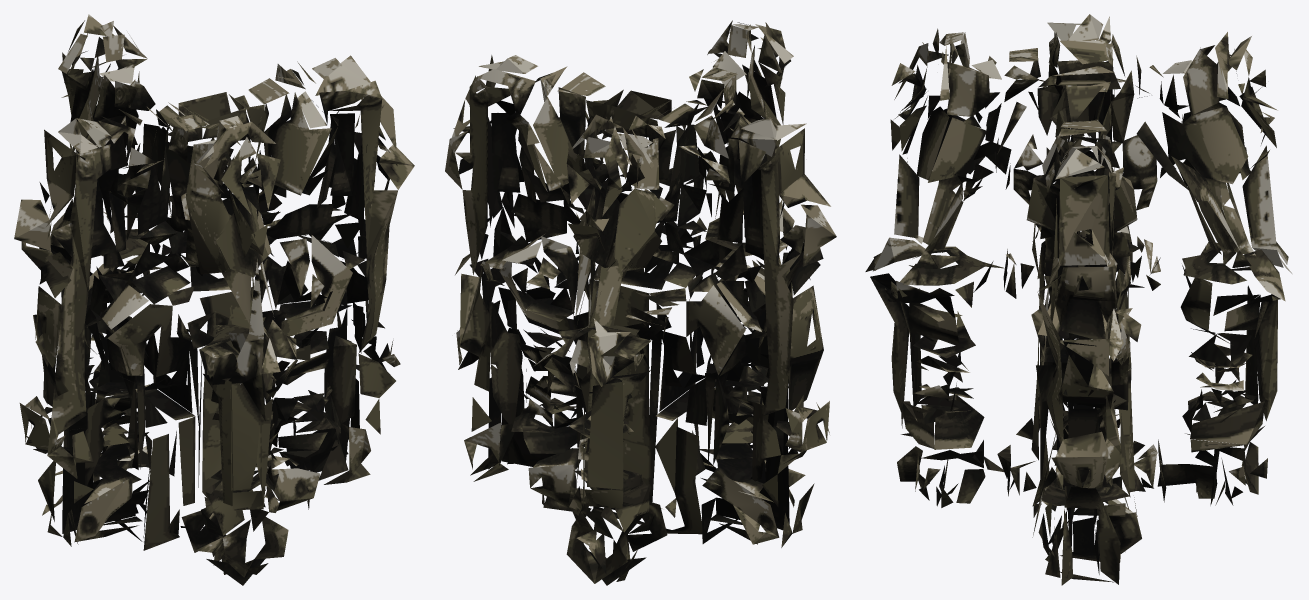
Rendered from mo_stride.glb.
3 views of the same model, side by side, from view 1: azimuth 30°, elevation 25°; view 2: azimuth 150°, elevation 25°; view 3: azimuth 270°, elevation 25° (orthographic). The views are drawn at different scales.
Parts seen in each view (by area): view 1: mo_stride; view 2: mo_stride; view 3: mo_stride.
Part boxes in pixels (left/top/right/bottom): mo_stride: left=14, top=14, right=414, bottom=585; mo_stride: left=445, top=20, right=836, bottom=585; mo_stride: left=865, top=14, right=1291, bottom=585.
Bounding box in the file's own units: 0.173 × 0.2 × 0.1638.
Materials: 1 (1 with a texture image).
